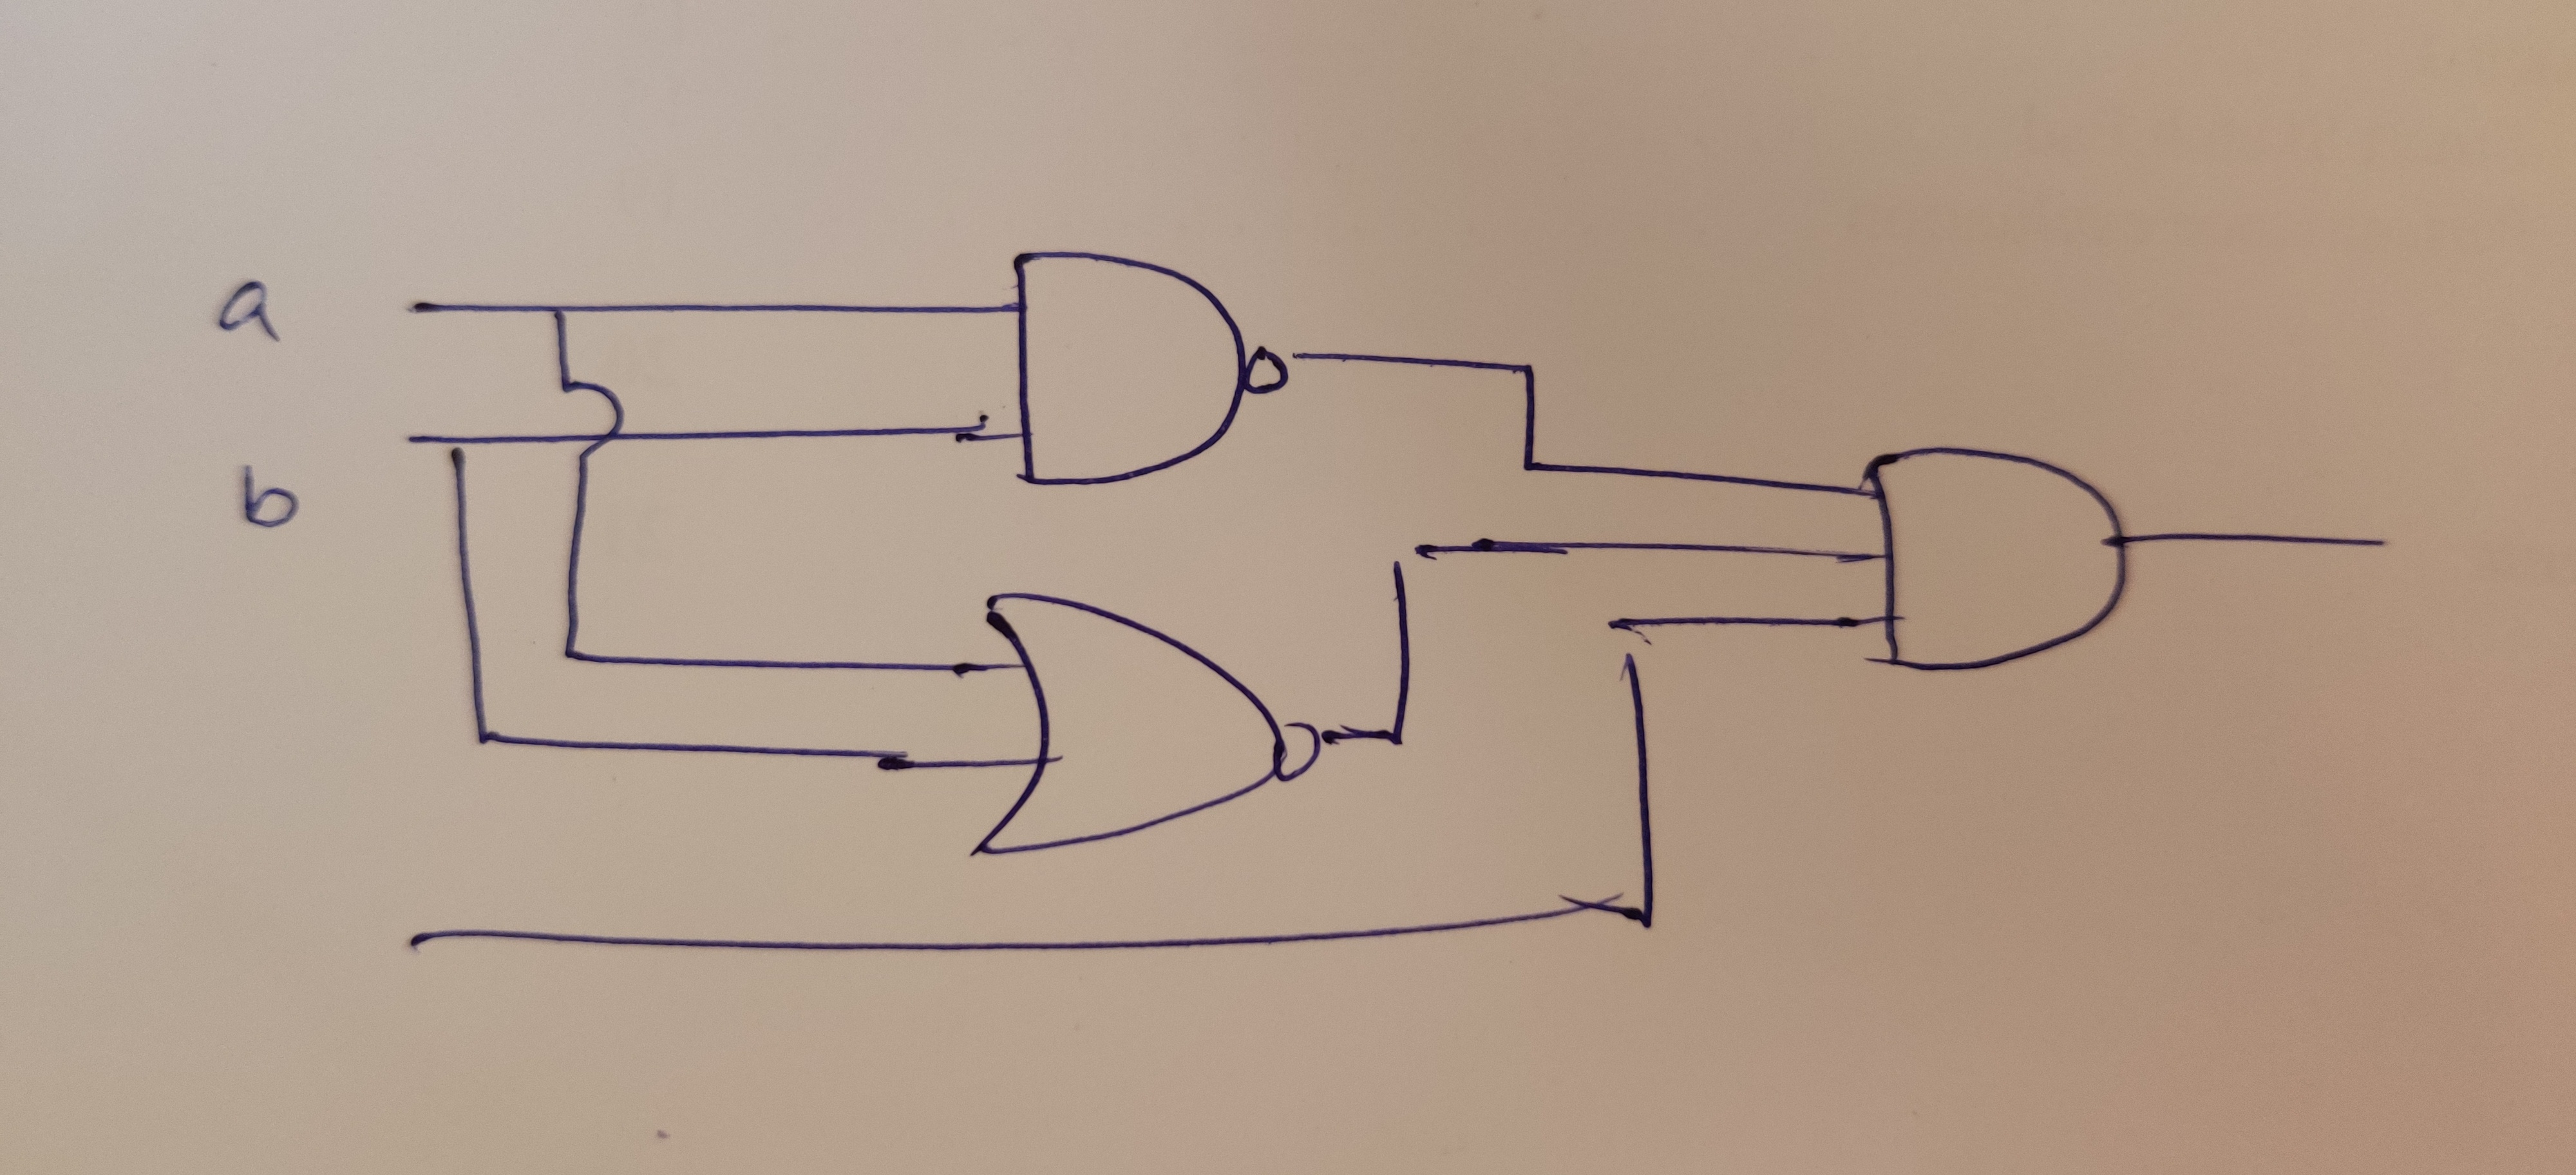and: (1828, 417, 2187, 707)
nand: (982, 214, 1308, 526)
nor: (963, 562, 1336, 871)
